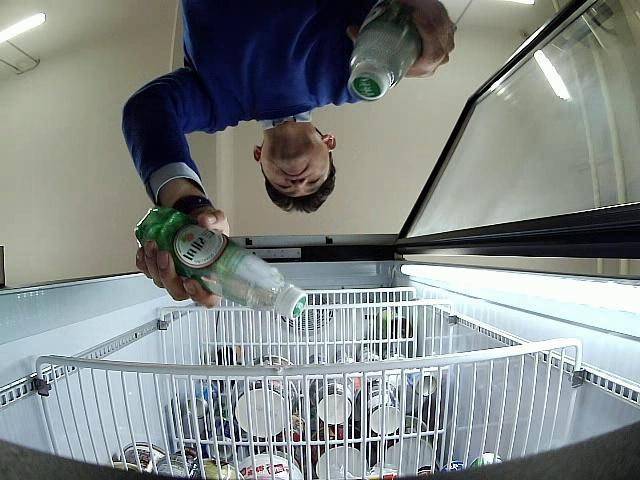18_trevi: (136, 207, 308, 321), (348, 0, 424, 100)
